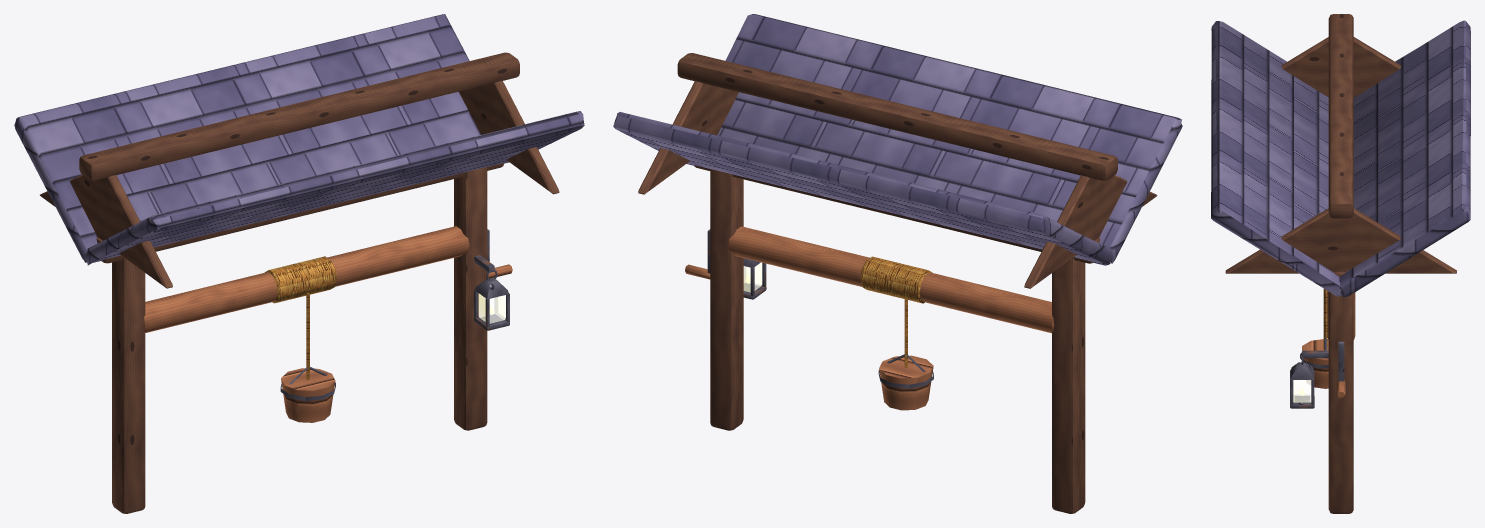
The model's file is well_roof.gltf.
3 views of the same model, side by side, from view 1: azimuth 30°, elevation 25°; view 2: azimuth 150°, elevation 25°; view 3: azimuth 270°, elevation 25° (orthographic). The views are drawn at different scales.
Parts seen in each view (by area): view 1: well_roof_mesh, INT_crank; view 2: well_roof_mesh, INT_crank; view 3: well_roof_mesh, INT_crank.
Boxes of the visible parts, x1,y1,x2,y2 form: well_roof_mesh: [14, 14, 584, 513]; INT_crank: [143, 226, 512, 332]; well_roof_mesh: [613, 14, 1182, 513]; INT_crank: [685, 226, 1054, 333]; well_roof_mesh: [1211, 14, 1470, 513]; INT_crank: [1327, 291, 1355, 397].
Size of what is drawn, in the model's own units: 2.91 by 2.31 by 1.67.
9 materials, 6 textured.
